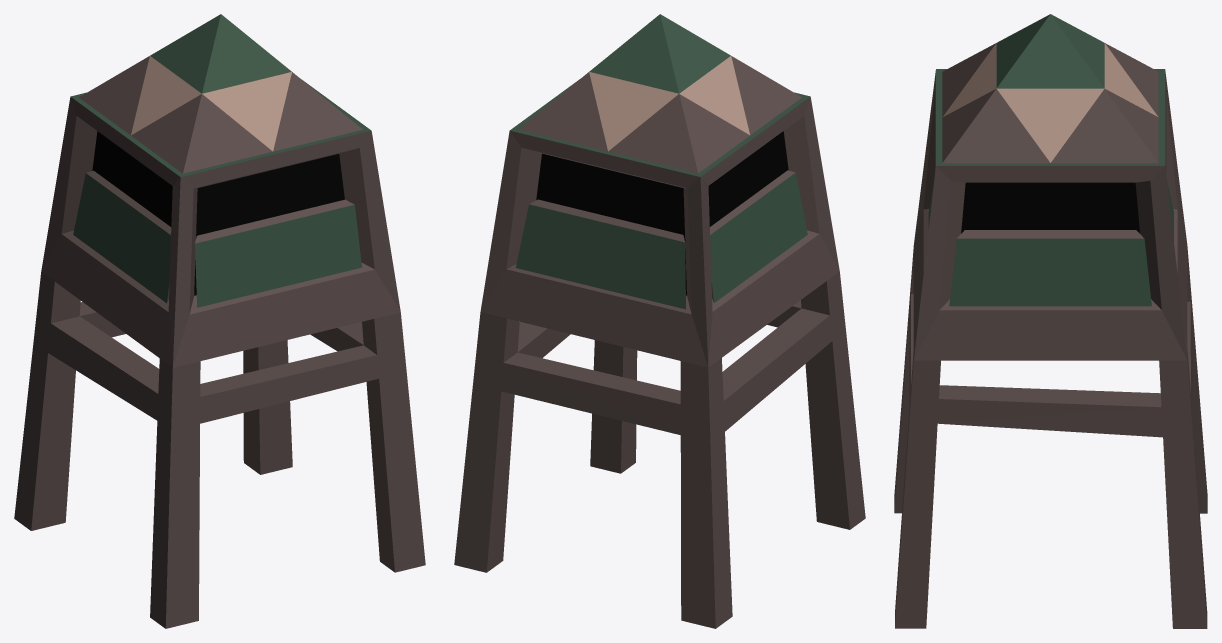
The model's file is GuardTower.fbx.
The picture shows the model from 3 angles, left to right: view 1: azimuth 30°, elevation 25°; view 2: azimuth 150°, elevation 25°; view 3: azimuth 270°, elevation 25°; orthographic projection. The views are drawn at different scales.
Parts seen in each view (by area): view 1: Cube; view 2: Cube; view 3: Cube.
Part boxes in pixels (<box>): Cube: <box>14,14,425,628</box>; Cube: <box>454,14,865,628</box>; Cube: <box>894,14,1207,628</box>.
Bounding box in the file's own units: 2.45 × 4.73 × 2.45.
